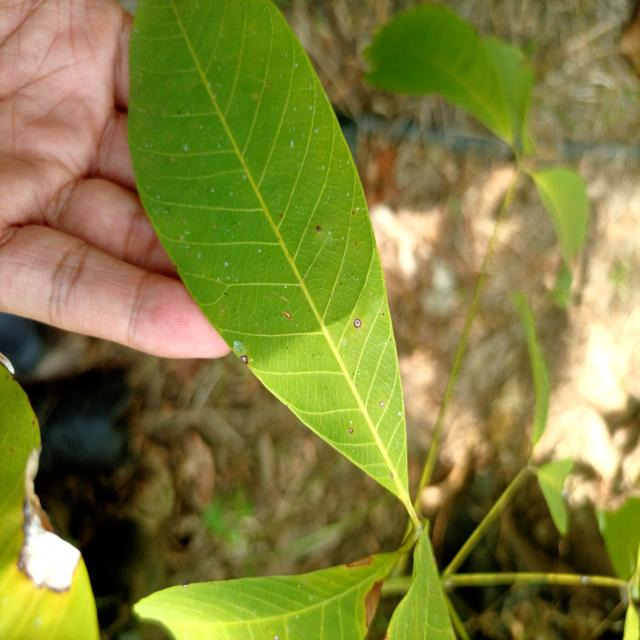Colletotrichum: (240, 355, 248, 365), (354, 319, 361, 328), (316, 226, 321, 231), (349, 428, 353, 433), (383, 313, 384, 315)
Leaf-Blight: (22, 520, 81, 591), (365, 577, 385, 629), (346, 556, 372, 568)
